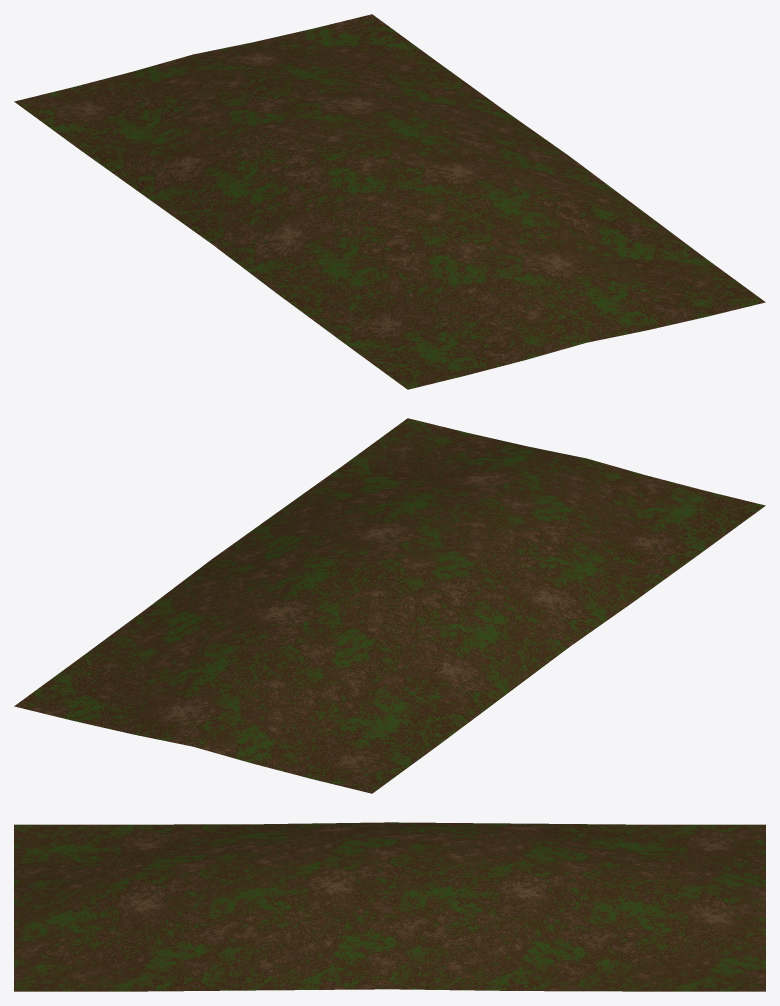
Rendered from ASM - PBR Metallic Roughness.glb.
3 views of the same model, one above another, from view 1: azimuth 30°, elevation 25°; view 2: azimuth 150°, elevation 25°; view 3: azimuth 270°, elevation 25° (orthographic). The views are drawn at different scales.
Parts seen in each view (by area): view 1: Plane; view 2: Plane; view 3: Plane.
Part boxes in pixels (x1,y1,x2,y2): Plane: (14,14,765,389); Plane: (14,418,765,793); Plane: (14,822,765,991).
Bounding box in the file's own units: 1.05 × 0.1329 × 2.
1 material, 1 textured.
